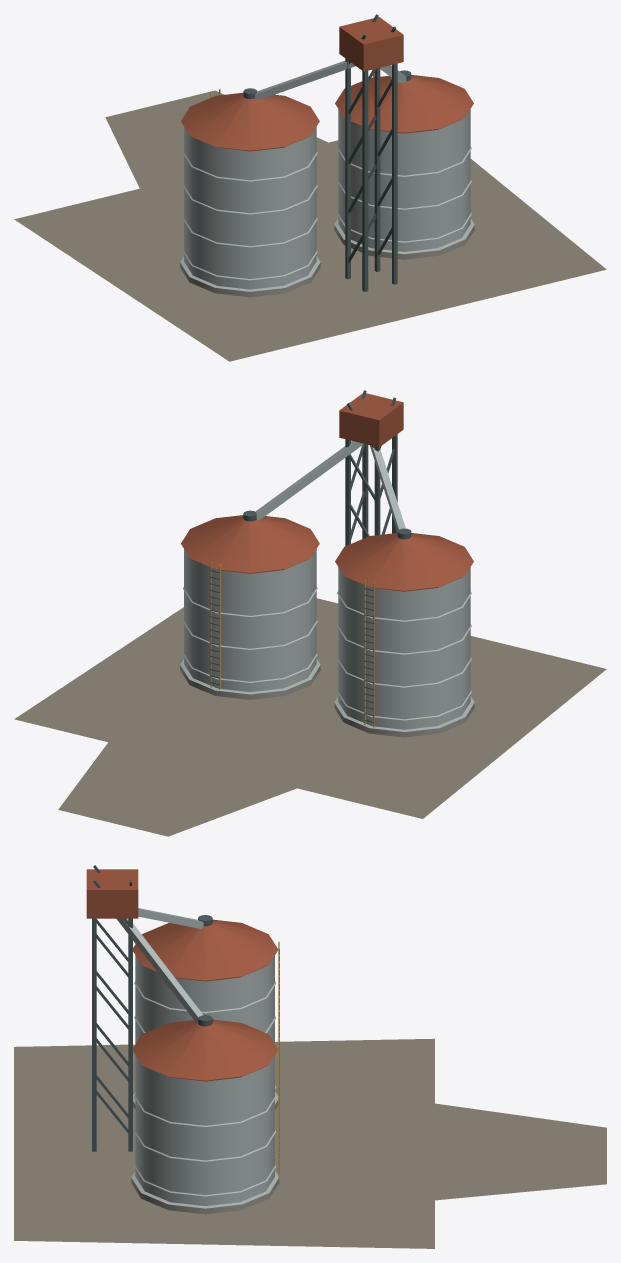
Rendered from grain-yard.glb.
3 renders of one model, top to bottom at view 1: azimuth 30°, elevation 25°; view 2: azimuth 150°, elevation 25°; view 3: azimuth 270°, elevation 25°, orthographic. The views are drawn at different scales.
Size of the model in its own units: 26 by 15.62 by 31.
